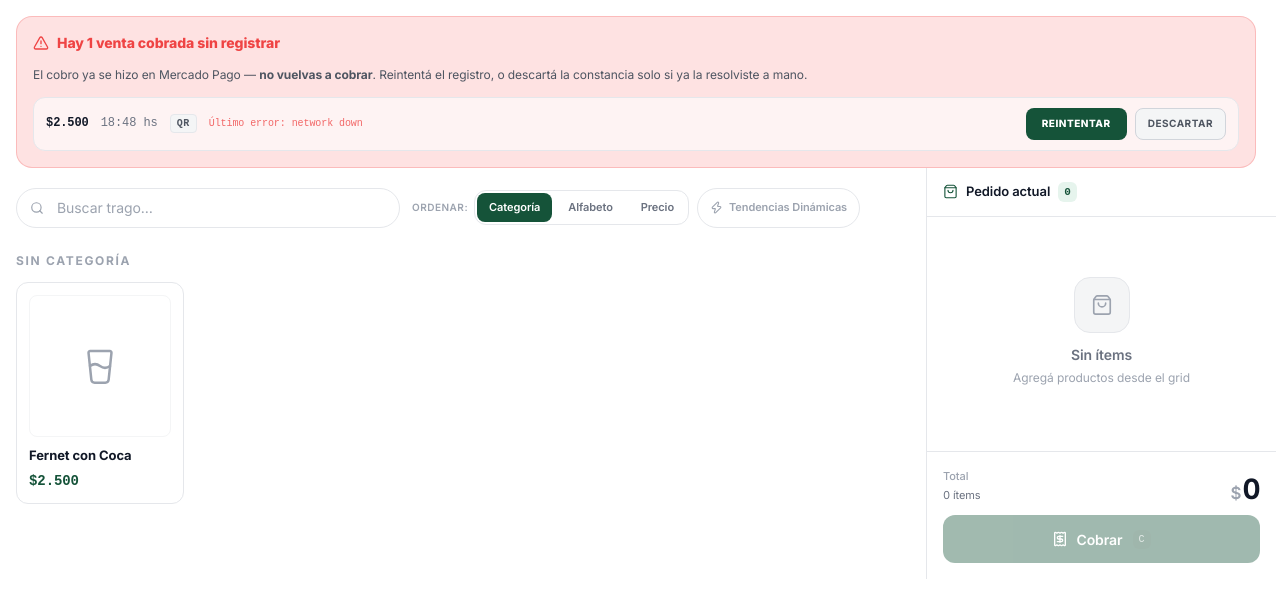
Scenario: VentaSection › si el reintento vuelve a fallar, el banner queda
Click the button "Reintentar" at point(1076, 124), box [1026,108,1127,140]
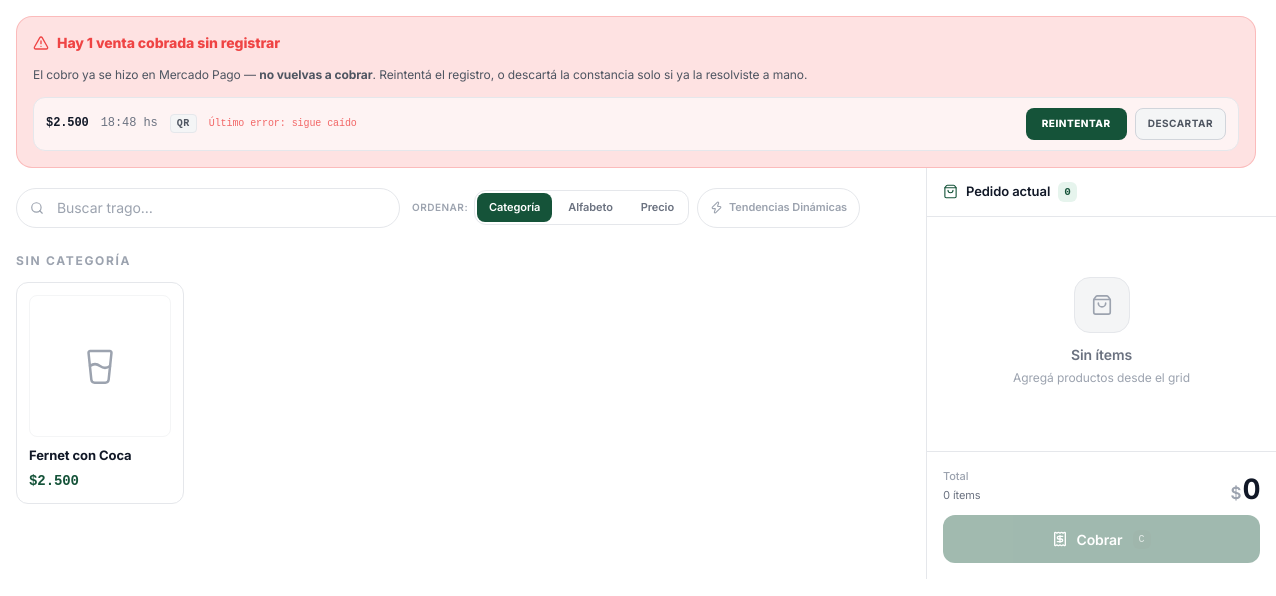
Expected: the message is shown, [16,16,1256,168]
Expected: the text "Último error: sigue caído" is shown, [209,117,357,130]
